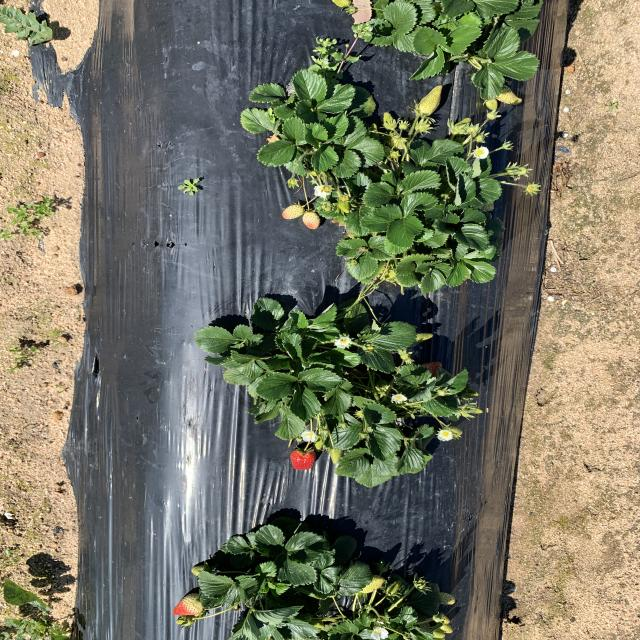unripe: (290, 448, 316, 471)
